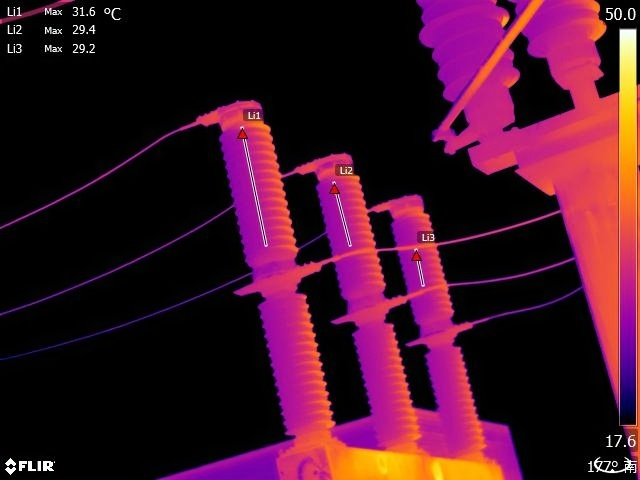circuit breaker: (211, 88, 345, 443), (311, 139, 419, 453), (388, 168, 489, 454)
post insulator: (394, 1, 520, 100), (518, 1, 608, 74)
